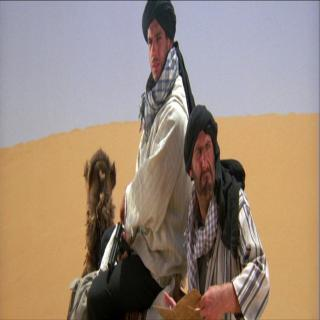gun: (100, 220, 133, 282)
